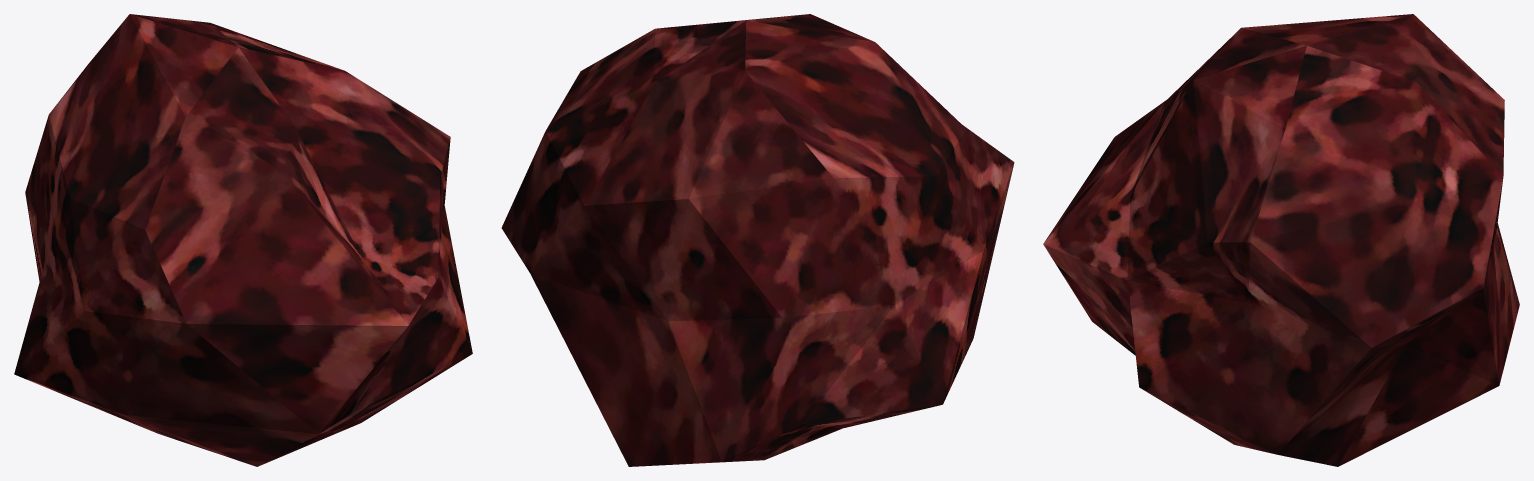
Rendered from BloodSphere.fbx.
3 renders of one model, left to right at view 1: azimuth 30°, elevation 25°; view 2: azimuth 150°, elevation 25°; view 3: azimuth 270°, elevation 25°, orthographic. The views are drawn at different scales.
Visible parts, largest first — view 1: BloodSphere; view 2: BloodSphere; view 3: BloodSphere.
Part boxes in pixels (bbox=[...]): BloodSphere: bbox=[14, 14, 472, 466]; BloodSphere: bbox=[501, 14, 1014, 466]; BloodSphere: bbox=[1043, 14, 1519, 466].
Bounding box in the file's own units: 205 × 197 × 219.
